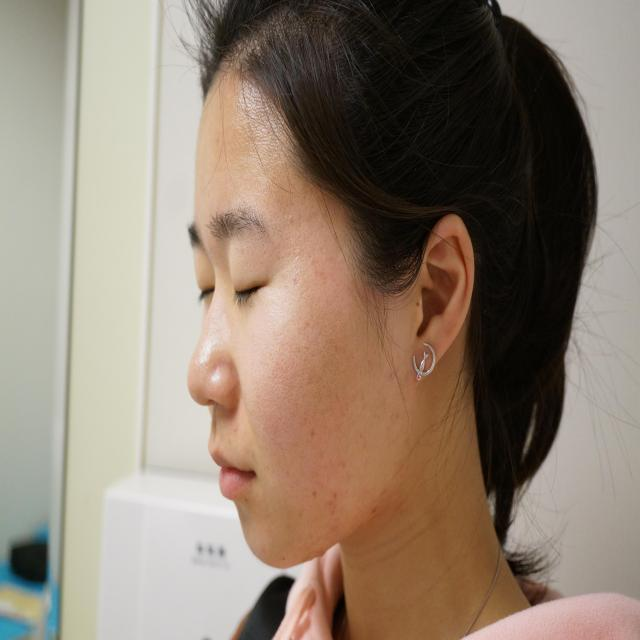acne: (319, 483, 337, 508)
